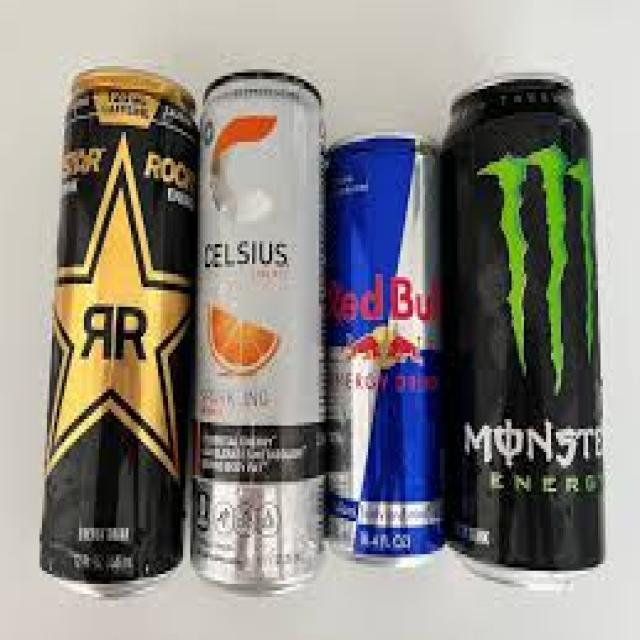Cans: (438, 62, 626, 590), (37, 63, 198, 597), (198, 62, 331, 594), (321, 128, 452, 570)
